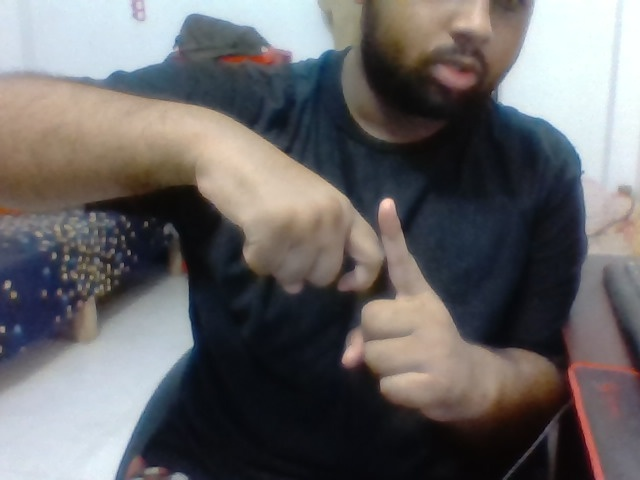K: (208, 95, 500, 436)
